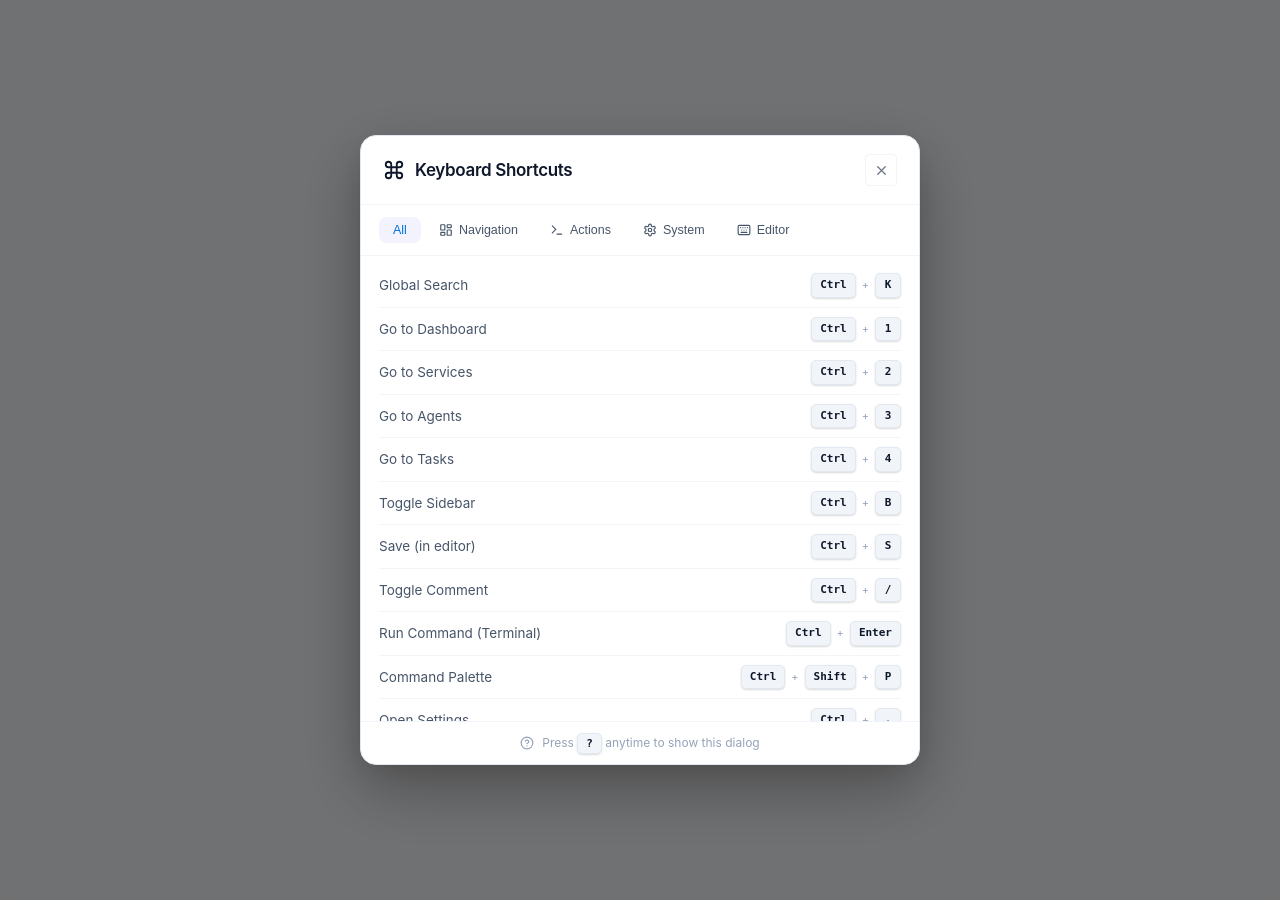
Scenario: KeyboardShortcutsModal › shows all shortcuts when All is selected
This screenshot has width=1280, height=900.
Step 1. Click the button "System" → x=674, y=230, box 629,217 -> 719,243
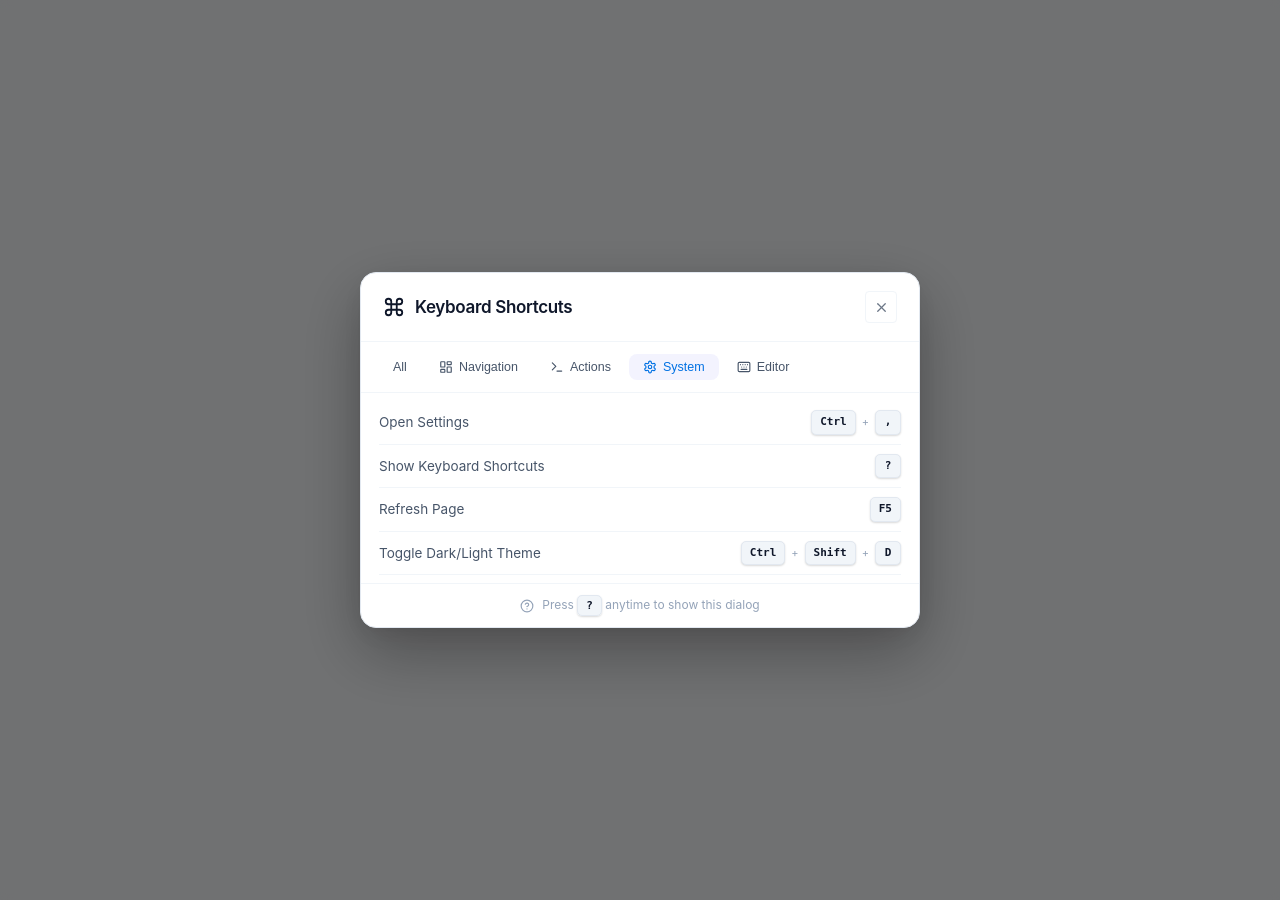
Step 2. Click the button "All" → x=400, y=367, box 379,354 -> 421,380
(page scrolled)
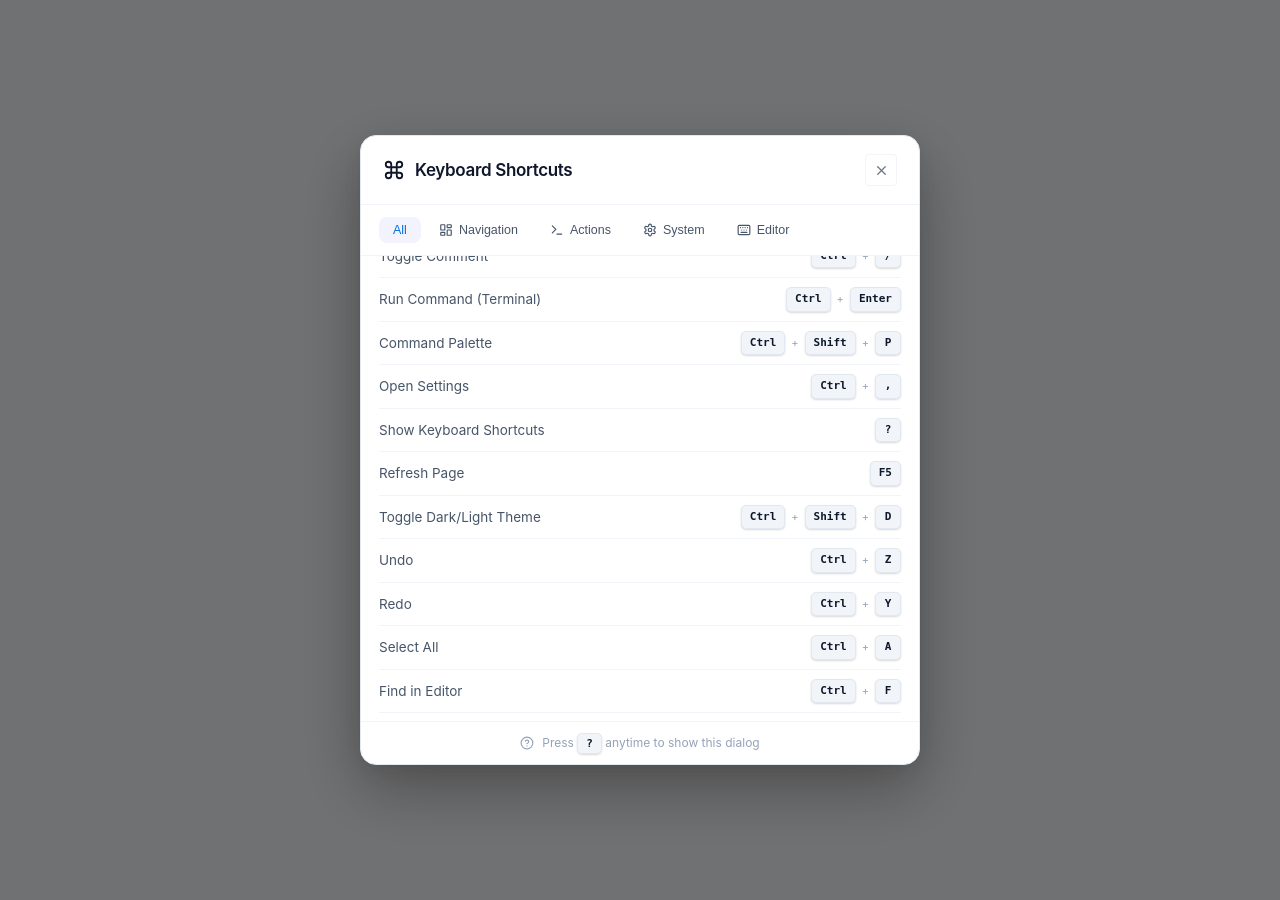
Result: the text "Undo" is shown at 379,550 -> 413,570
